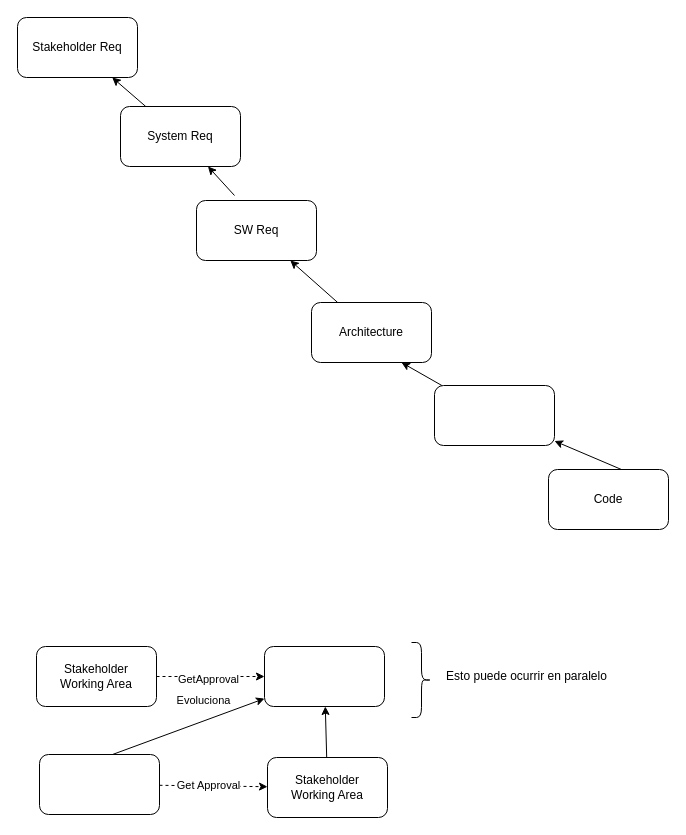
This 686x835 diagram has some shape labels left out. Each missing label, with the box of its shape:
DD: (434, 384, 554, 446)
Stakeholder Release Area: (264, 646, 384, 706)
System Req Working Area: (38, 754, 160, 814)
